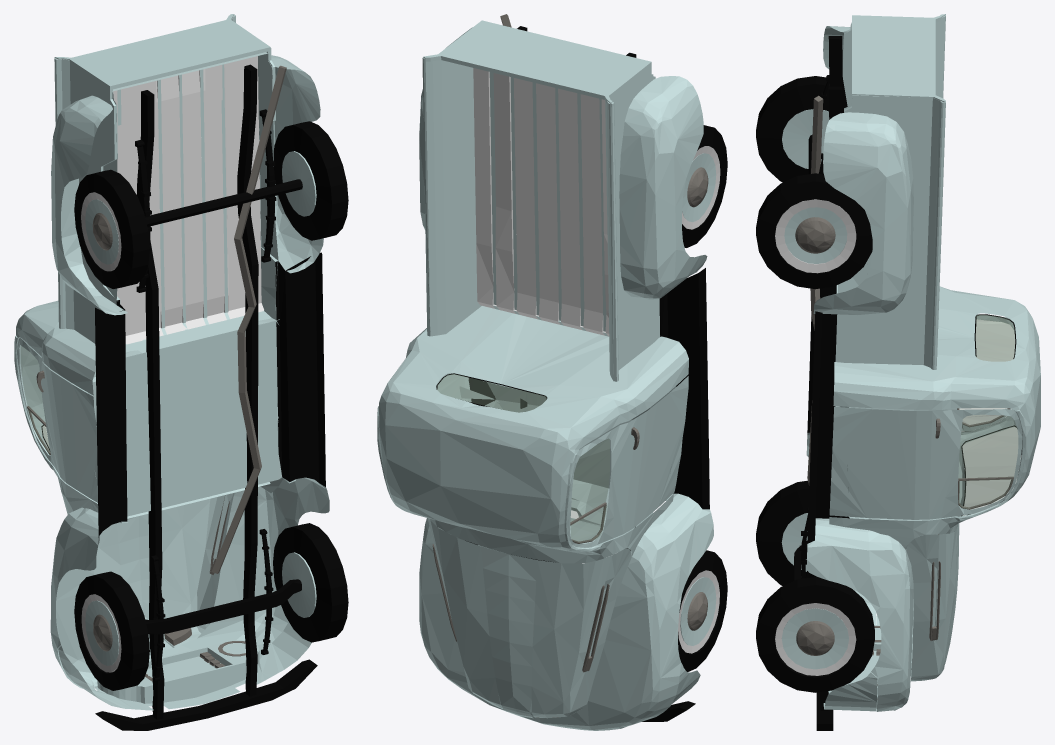
3 views of the same model, side by side, from view 1: azimuth 30°, elevation 25°; view 2: azimuth 150°, elevation 25°; view 3: azimuth 270°, elevation 25° (orthographic). The views are drawn at different scales.
Visible parts, largest first — view 1: ShapeIndexedFaceSet, ShapeIndexedFaceSet_001, ShapeIndexedFaceSet_007, ShapeIndexedFaceSet_003, ShapeIndexedFaceSet_006, ShapeIndexedFaceSet_004, ShapeIndexedFaceSet_002; view 2: ShapeIndexedFaceSet, ShapeIndexedFaceSet_007, ShapeIndexedFaceSet_001, ShapeIndexedFaceSet_004, ShapeIndexedFaceSet_002, ShapeIndexedFaceSet_003, ShapeIndexedFaceSet_006; view 3: ShapeIndexedFaceSet, ShapeIndexedFaceSet_001, ShapeIndexedFaceSet_004, ShapeIndexedFaceSet_003, ShapeIndexedFaceSet_006.
Boxes of the visible parts, <box> form: ShapeIndexedFaceSet: <box>14,14,329,710</box>; ShapeIndexedFaceSet_001: <box>41,64,348,730</box>; ShapeIndexedFaceSet_007: <box>113,56,263,344</box>; ShapeIndexedFaceSet_003: <box>27,65,286,681</box>; ShapeIndexedFaceSet_006: <box>81,192,121,672</box>; ShapeIndexedFaceSet_004: <box>21,346,50,454</box>; ShapeIndexedFaceSet_002: <box>139,510,174,651</box>; ShapeIndexedFaceSet: <box>377,20,716,730</box>; ShapeIndexedFaceSet_007: <box>473,68,609,336</box>; ShapeIndexedFaceSet_001: <box>436,26,727,721</box>; ShapeIndexedFaceSet_004: <box>437,374,609,542</box>; ShapeIndexedFaceSet_002: <box>480,546,518,715</box>; ShapeIndexedFaceSet_003: <box>432,14,708,717</box>; ShapeIndexedFaceSet_006: <box>678,146,720,653</box>; ShapeIndexedFaceSet: <box>781,14,1040,711</box>; ShapeIndexedFaceSet_001: <box>756,36,1021,730</box>; ShapeIndexedFaceSet_004: <box>958,315,1018,515</box>; ShapeIndexedFaceSet_003: <box>795,95,1013,699</box>; ShapeIndexedFaceSet_006: <box>775,199,856,675</box>.
Bounding box in the file's own units: 8331 × 8531 × 21204.
